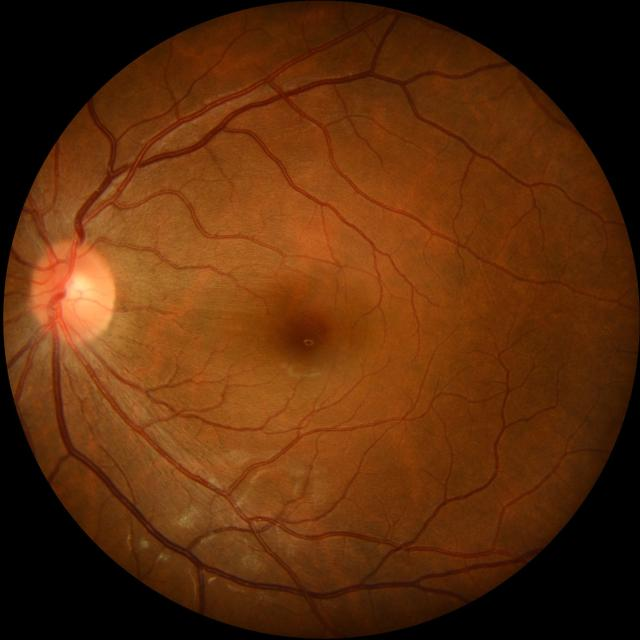OC: (62, 274, 94, 306)
OD: (30, 241, 114, 343)
